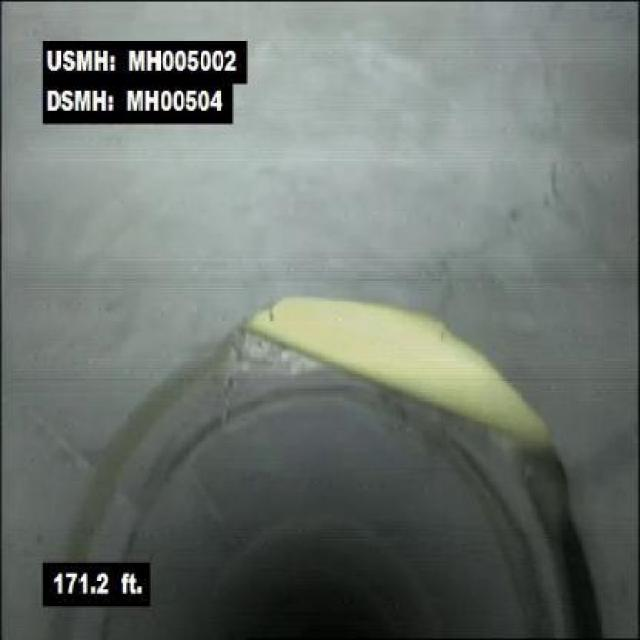Crack: (503, 2, 575, 226)
Utility intrusion: (212, 291, 557, 457)
